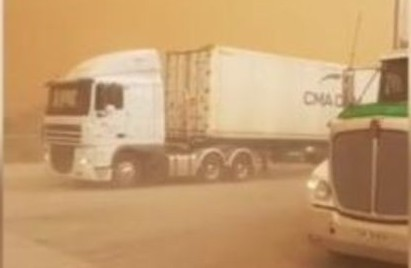truck: (39, 40, 384, 187), (305, 40, 408, 264)
